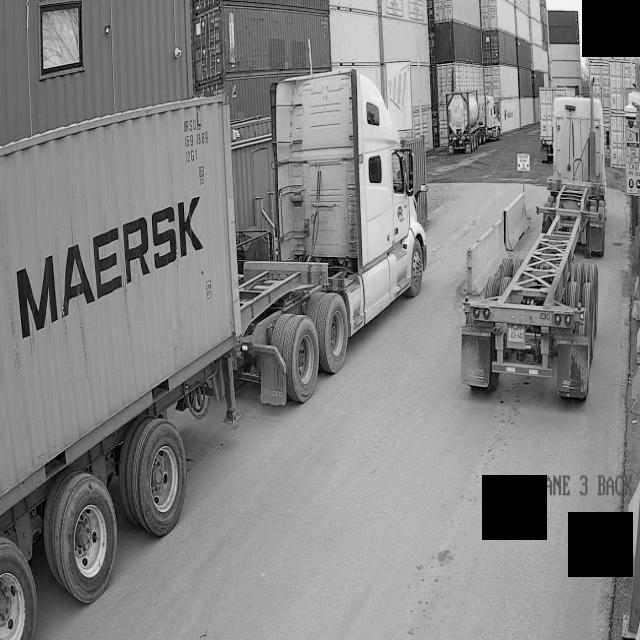container_company_logo: (17, 197, 202, 337)
container_number: (179, 116, 212, 188)
license_plate: (506, 323, 530, 349)
truck_with_container: (0, 68, 427, 640), (61, 227, 123, 317), (151, 201, 202, 268), (17, 255, 57, 337), (122, 219, 150, 283)
truck_without_container: (461, 97, 607, 398)
